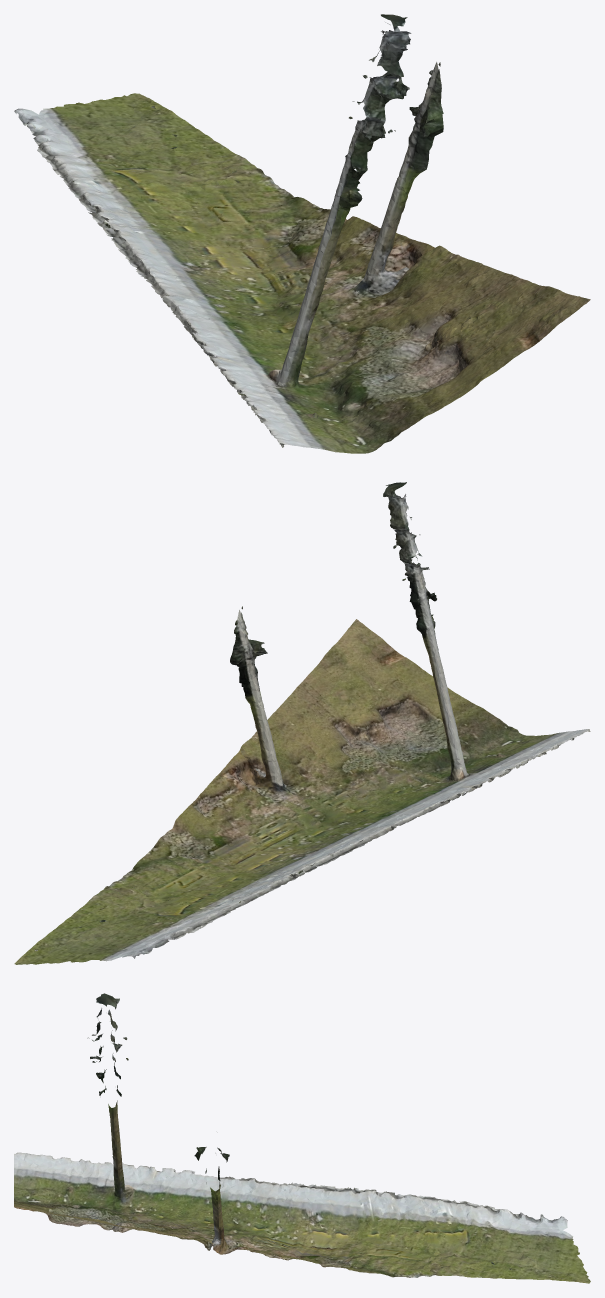
3 views of the same model, one above another, from view 1: azimuth 30°, elevation 25°; view 2: azimuth 150°, elevation 25°; view 3: azimuth 270°, elevation 25° (orthographic). The views are drawn at different scales.
Bounding box in the file's own units: 6.35 × 7.62 × 16.09.
1 material, 1 textured.
